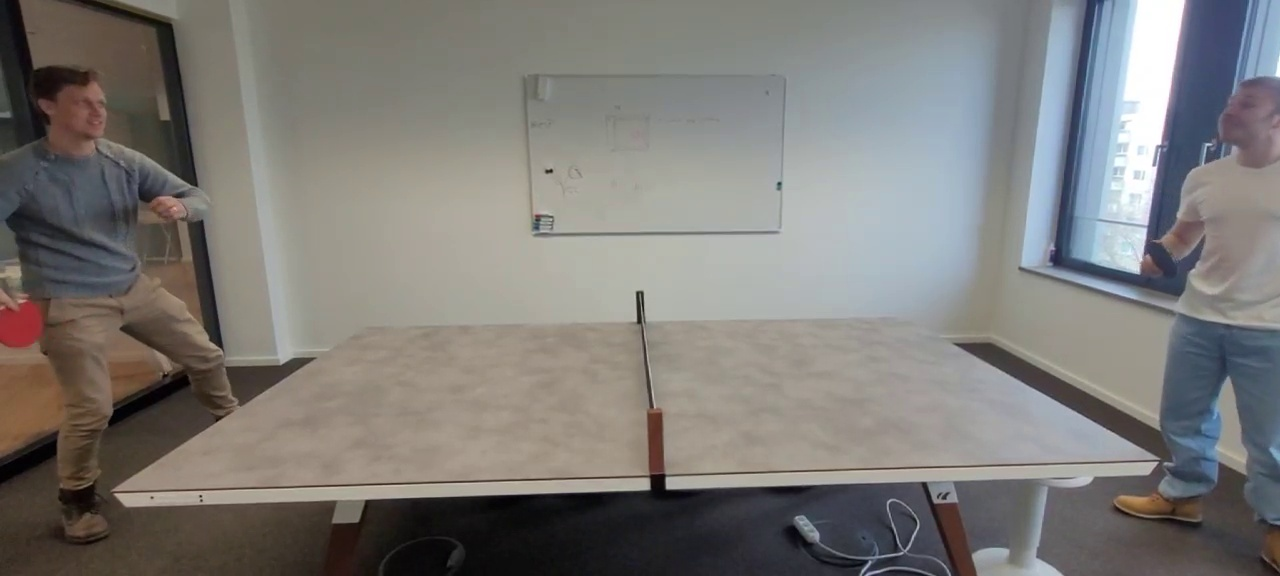1: (0, 299, 43, 347), (1147, 240, 1178, 279)
ttplatte: (112, 315, 1159, 490)
